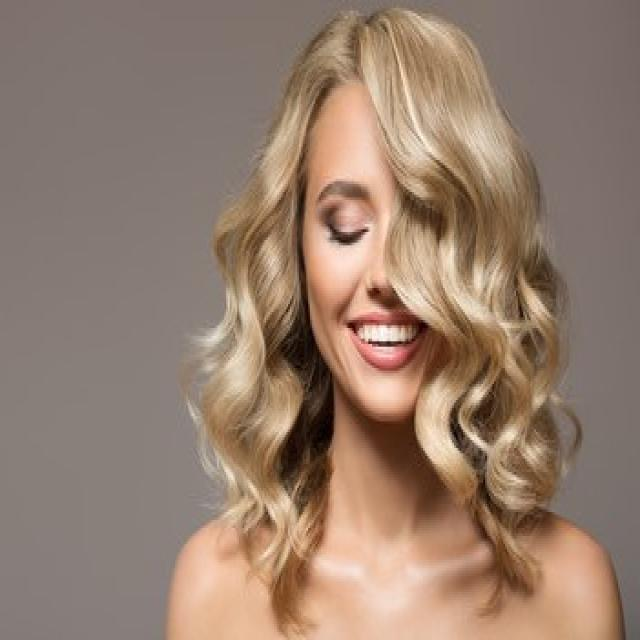Nonhelmet: (275, 3, 516, 430)
